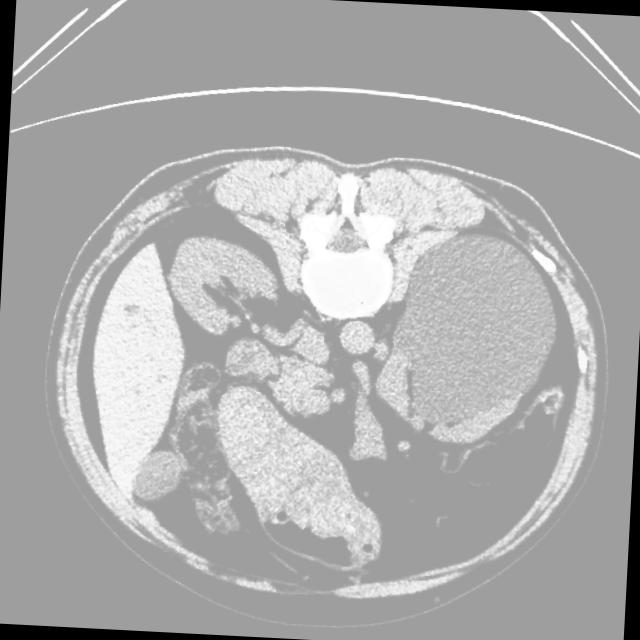cysts: (40, 138, 613, 620)
